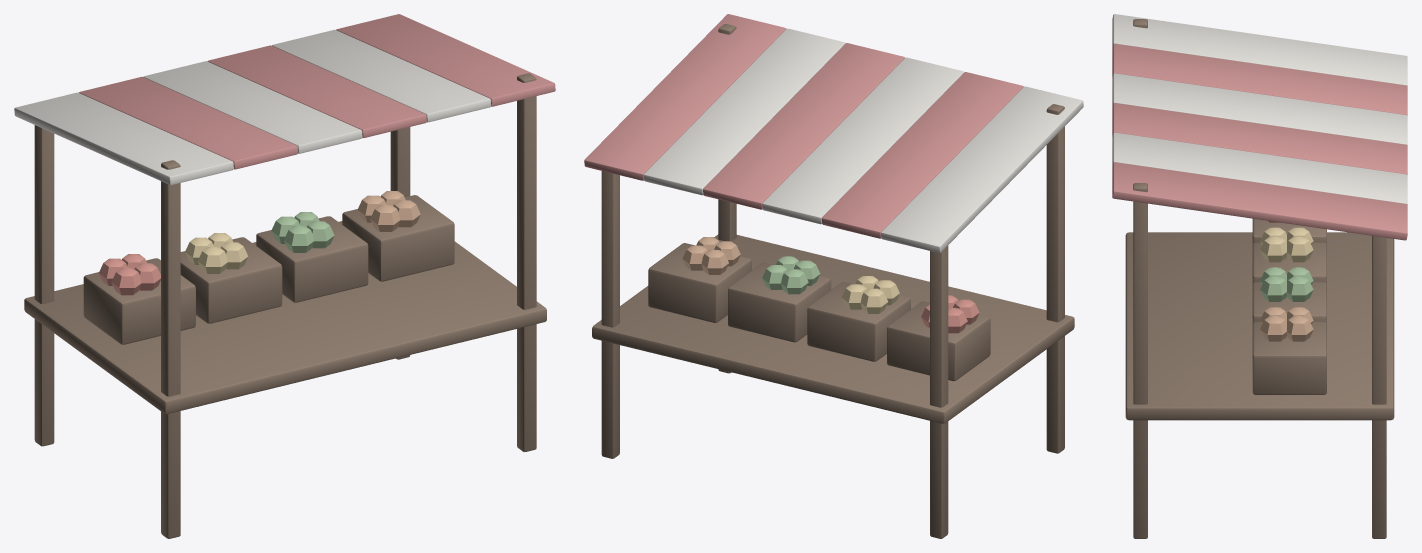
File: stall.gltf
3 views of the same model, side by side, from view 1: azimuth 30°, elevation 25°; view 2: azimuth 150°, elevation 25°; view 3: azimuth 270°, elevation 25° (orthographic). The views are drawn at different scales.
Parts seen in each view (by area): view 1: Body; view 2: Body; view 3: Body.
Part boxes in pixels (x1,y1,x2,y2): Body: (14,14,555,538); Body: (584,14,1083,538); Body: (1112,14,1407,538).
Size of the model in its own units: 2.82 by 2.6 by 1.98.
